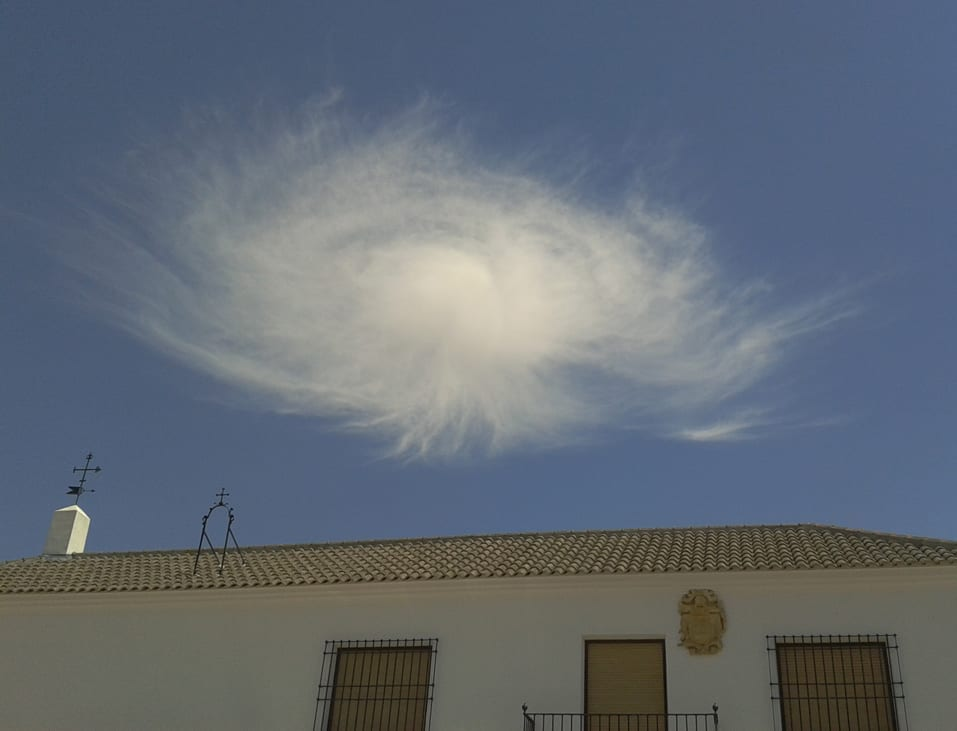Cirrus: (65, 58, 876, 471)
